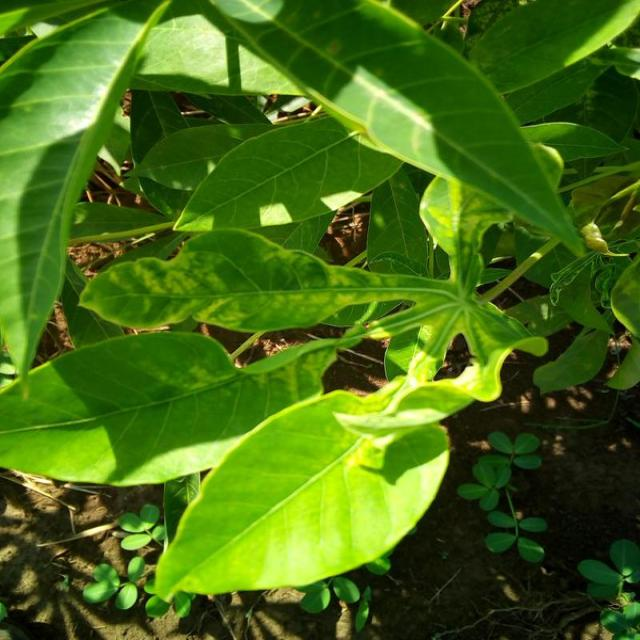cassava leaf: (1, 0, 594, 604), (150, 382, 452, 603), (0, 328, 338, 488)
